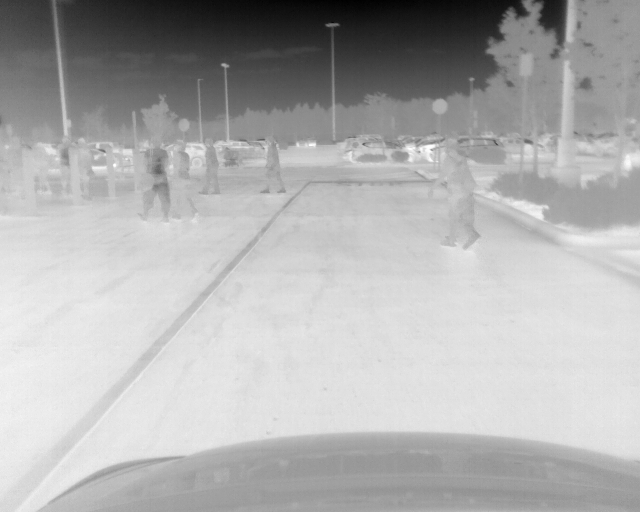car: (431, 136, 505, 166), (353, 141, 419, 163), (549, 132, 603, 156), (168, 142, 207, 165), (505, 136, 544, 154), (218, 138, 254, 149), (253, 140, 265, 156), (296, 137, 317, 146)
people: (424, 138, 481, 250), (134, 137, 168, 223), (171, 142, 201, 221), (259, 137, 287, 194), (75, 140, 95, 202), (9, 136, 27, 197), (37, 141, 56, 196), (202, 141, 221, 194), (464, 187, 479, 245), (56, 136, 70, 198)
